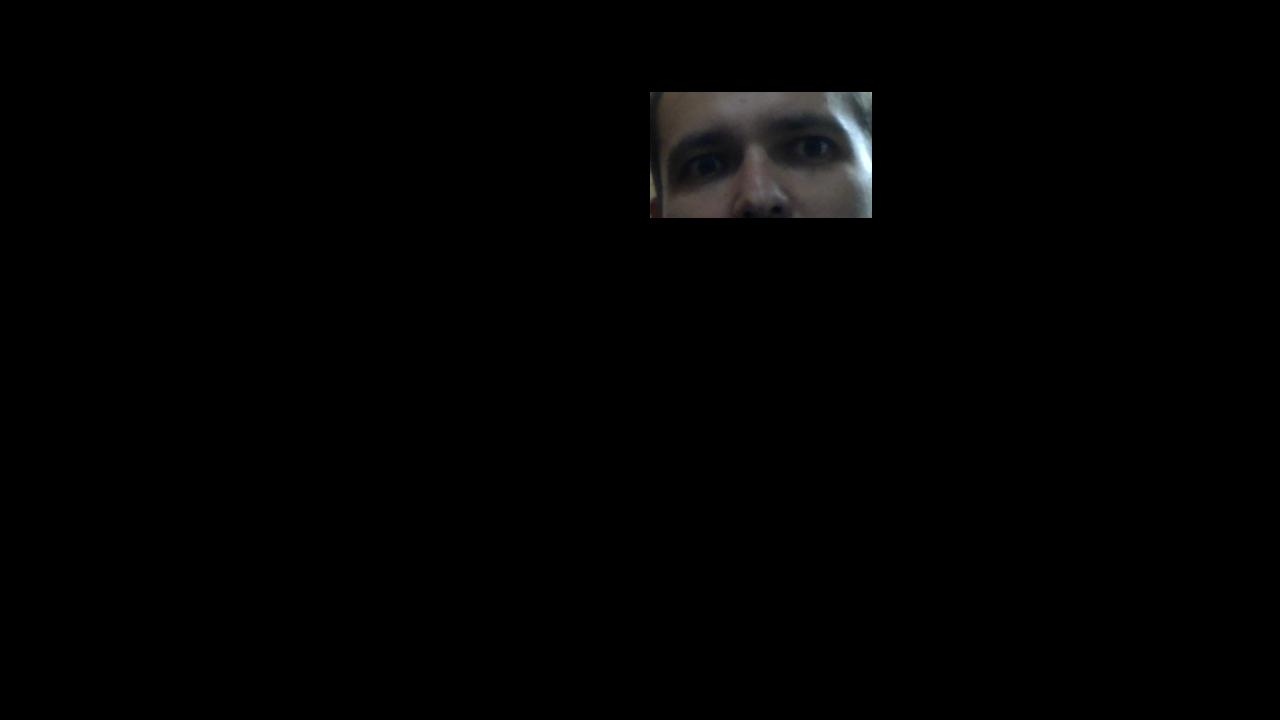eye: (696, 154, 716, 175), (802, 139, 822, 158)
